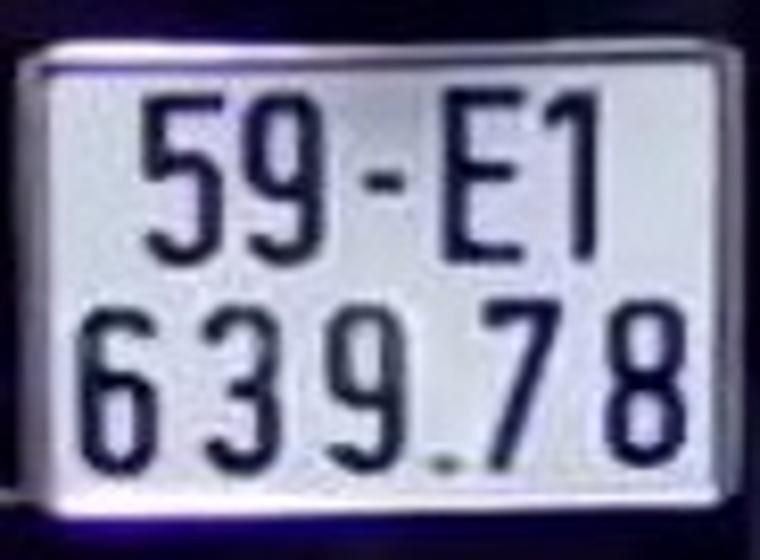-: (360, 168, 407, 193)
.: (432, 453, 457, 475)
1: (547, 86, 597, 260)
3: (199, 303, 281, 475)
5: (136, 93, 223, 266)
6: (78, 303, 160, 479)
7: (478, 295, 561, 476)
8: (605, 299, 689, 468)
9: (321, 300, 406, 473), (242, 91, 325, 262)
E: (439, 83, 526, 263)
